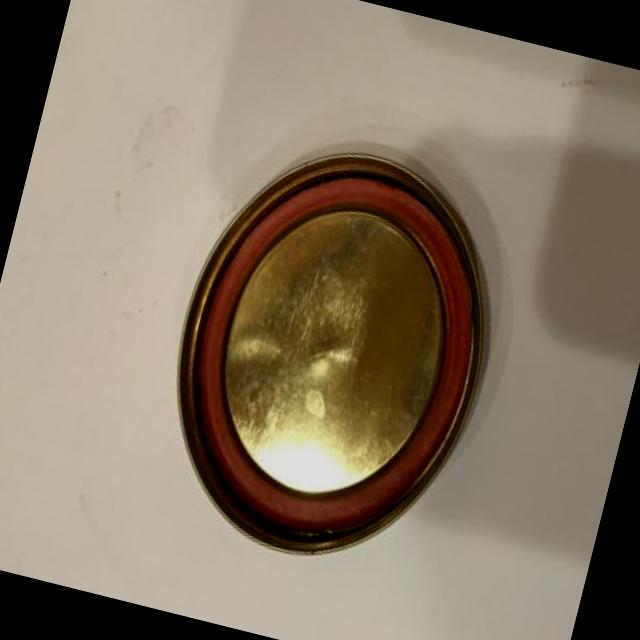nhom: (178, 153, 491, 551)
